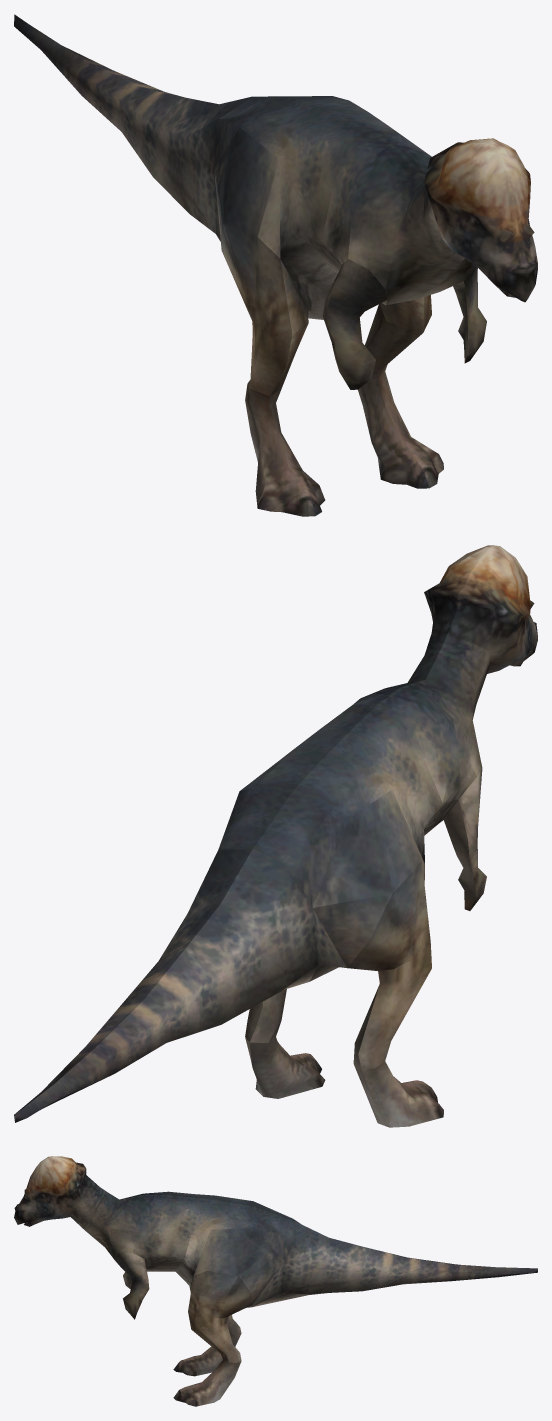
File: pachy.obj
3 views of the same model, one above another, from view 1: azimuth 30°, elevation 25°; view 2: azimuth 150°, elevation 25°; view 3: azimuth 270°, elevation 25° (orthographic). The views are drawn at different scales.
Parts seen in each view (by area): view 1: pachy; view 2: pachy; view 3: pachy.
Part boxes in pixels (box(x1,y1,x2,y2)): pachy: box(14, 14, 537, 516); pachy: box(14, 545, 537, 1127); pachy: box(14, 1156, 537, 1406).
Size of the model in its own units: 1.08 by 2.46 by 5.15.
Materials: 1 (1 with a texture image).
